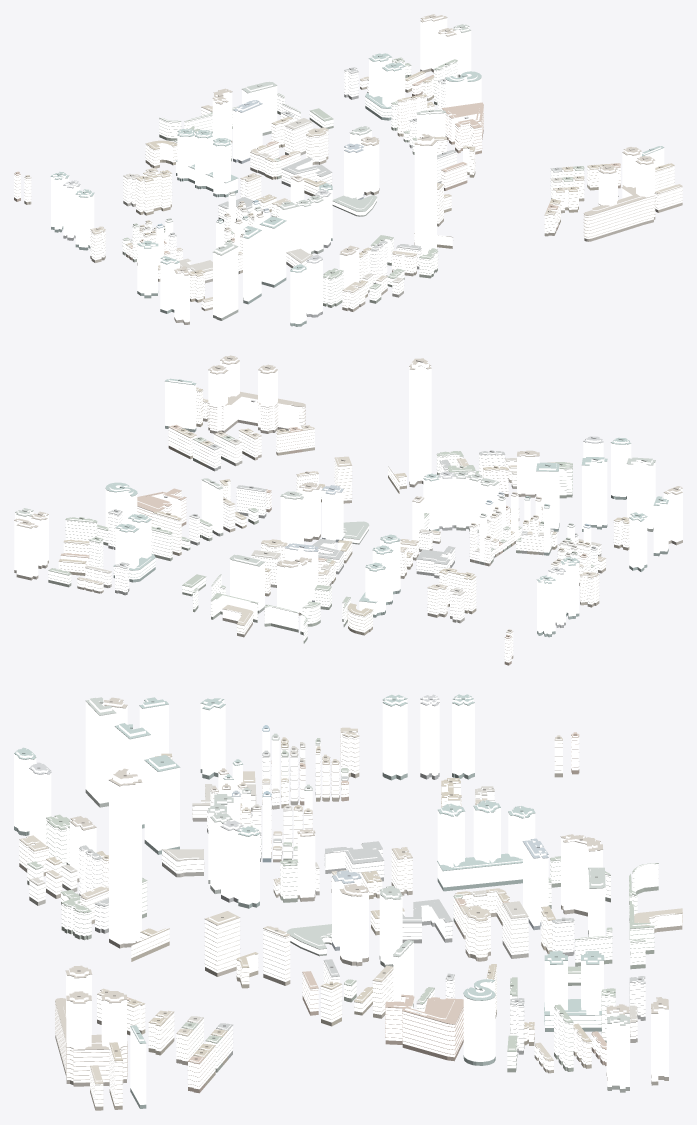
File: buildings-3_-2-fine.glb
The picture shows the model from 3 angles, top to bottom: view 1: azimuth 30°, elevation 25°; view 2: azimuth 150°, elevation 25°; view 3: azimuth 270°, elevation 25°; orthographic projection. The views are drawn at different scales.
Visible parts, largest first — view 1: block_3_-2_office, block_3_-2_residential, block_3_-2_roof, block_3_-2_darkglass, block_3_-2_concrete, block_3_-2_steel; view 2: block_3_-2_office, block_3_-2_residential, block_3_-2_roof, block_3_-2_darkglass, block_3_-2_concrete, block_3_-2_steel; view 3: block_3_-2_office, block_3_-2_residential, block_3_-2_roof, block_3_-2_darkglass, block_3_-2_concrete, block_3_-2_steel.
Part boxes in pixels (x1,y1,x2,y2): block_3_-2_office: [51, 15, 664, 323]; block_3_-2_residential: [14, 58, 682, 309]; block_3_-2_roof: [14, 14, 682, 314]; block_3_-2_darkglass: [14, 68, 682, 326]; block_3_-2_concrete: [14, 60, 682, 307]; block_3_-2_steel: [51, 16, 663, 275]; block_3_-2_office: [14, 357, 682, 634]; block_3_-2_residential: [48, 388, 629, 662]; block_3_-2_roof: [14, 355, 682, 638]; block_3_-2_darkglass: [14, 418, 682, 665]; block_3_-2_concrete: [48, 389, 628, 659]; block_3_-2_steel: [14, 358, 682, 603]; block_3_-2_office: [14, 695, 668, 1104]; block_3_-2_residential: [19, 731, 682, 1106]; block_3_-2_roof: [14, 694, 682, 1106]; block_3_-2_darkglass: [14, 768, 682, 1110]; block_3_-2_concrete: [19, 731, 682, 1103]; block_3_-2_steel: [14, 697, 668, 1043].
Bounding box in the file's own units: 650 × 150 × 536.
